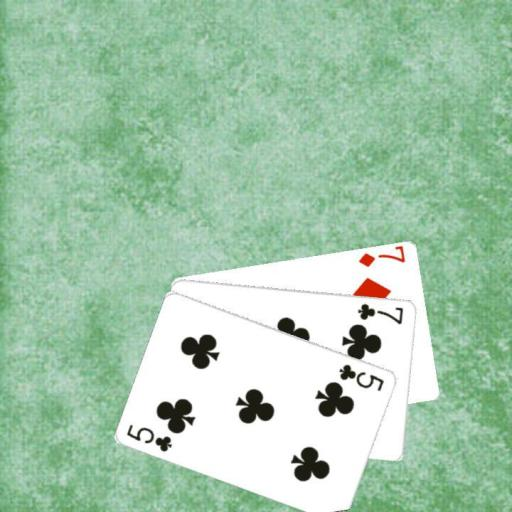5C: (336, 361, 386, 393), (124, 421, 174, 453)
7C: (355, 300, 405, 326)
7D: (356, 244, 408, 268)
